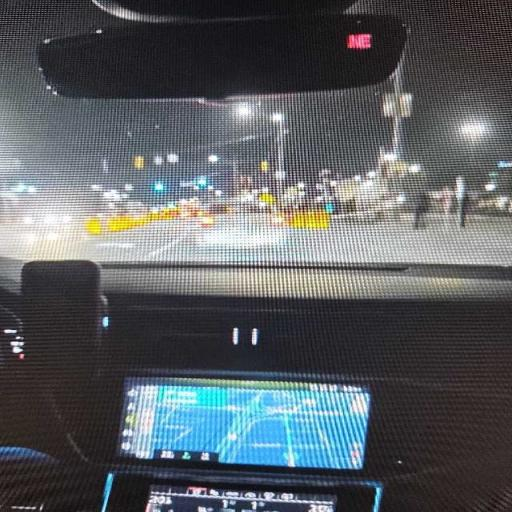car: (0, 0, 511, 511)
lane: (0, 215, 511, 265)
person: (410, 190, 429, 229)
